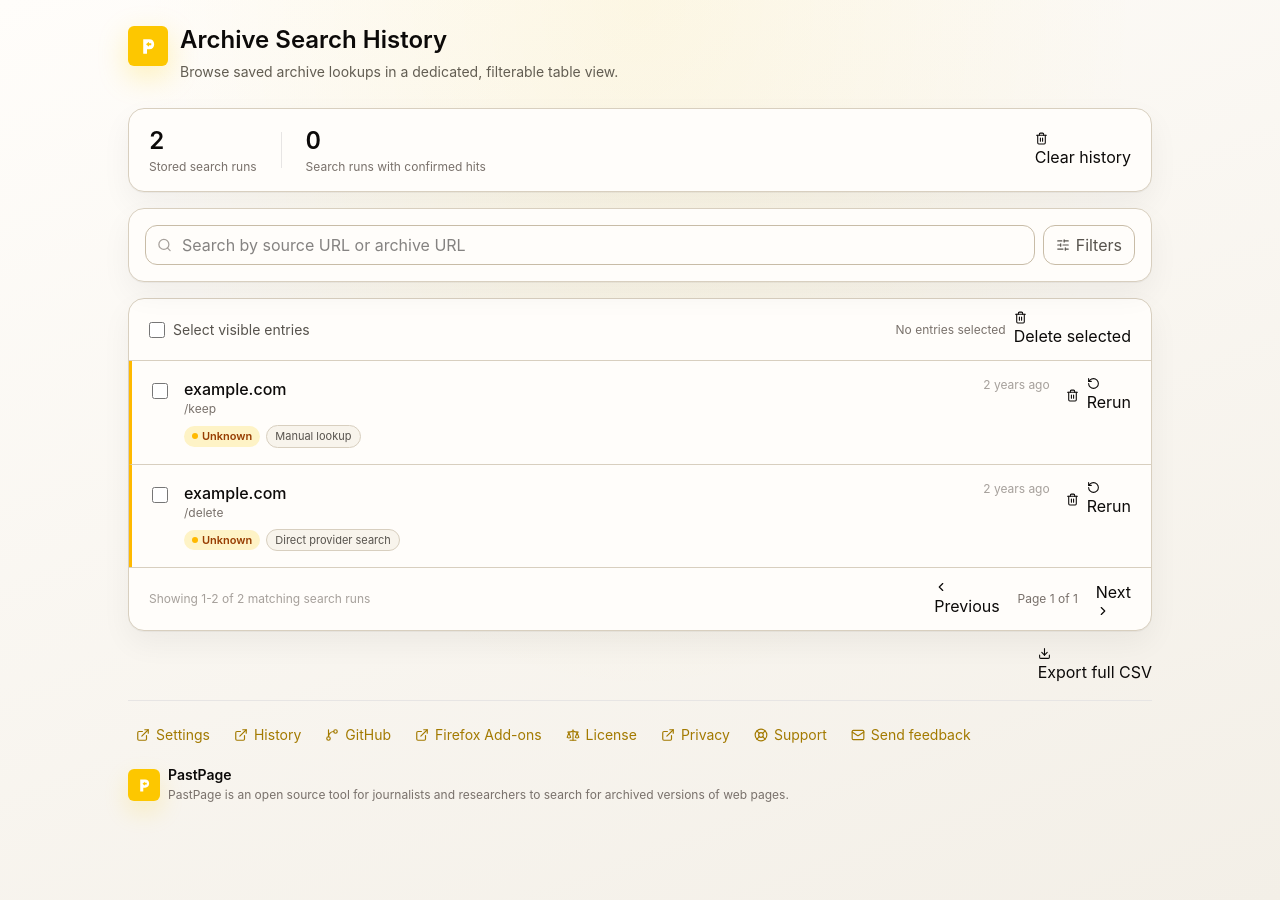
Test: HistoryApp › deletes a single history entry from the dedicated page
Click the 2nd button named "Delete entry".
click(1072, 499)  # box [1066, 492, 1079, 506]
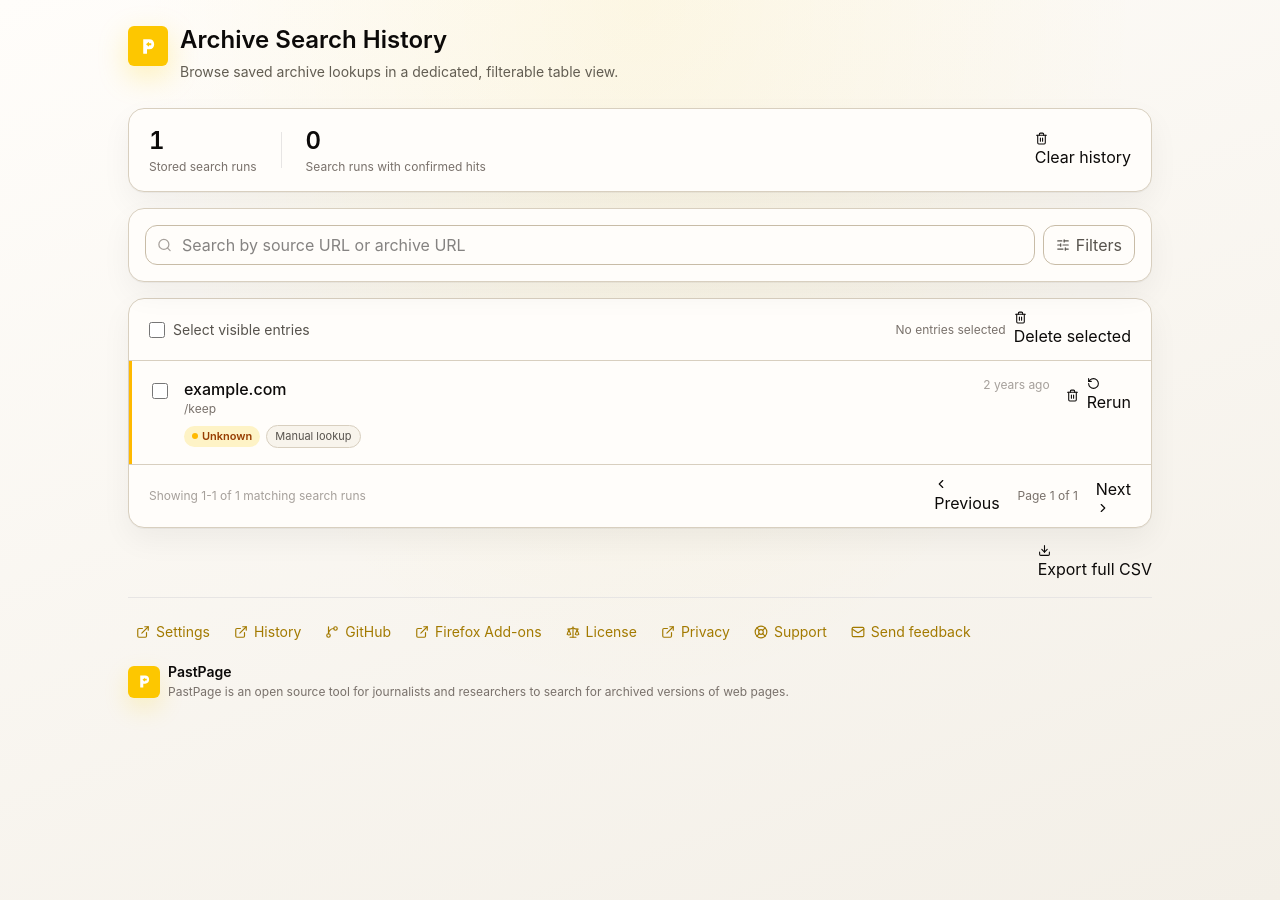
Expected: the text "/keep" is shown, [184, 401, 216, 416]
Result: the text "/delete" is gone
